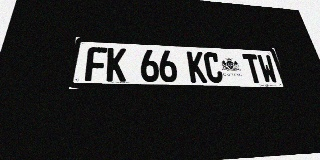6: (158, 50, 178, 82), (140, 49, 159, 82)
C: (203, 52, 224, 83)
F: (85, 47, 107, 81)
K: (106, 48, 126, 82), (186, 51, 207, 83)
T: (242, 54, 264, 83)
W: (256, 54, 279, 84)
